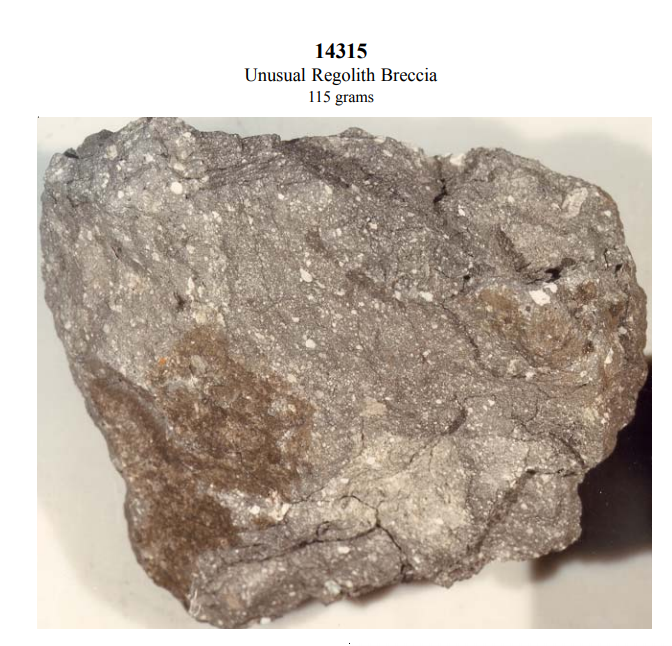Breccia: (35, 118, 650, 626), (71, 124, 649, 380), (195, 242, 650, 512), (158, 180, 496, 455)
